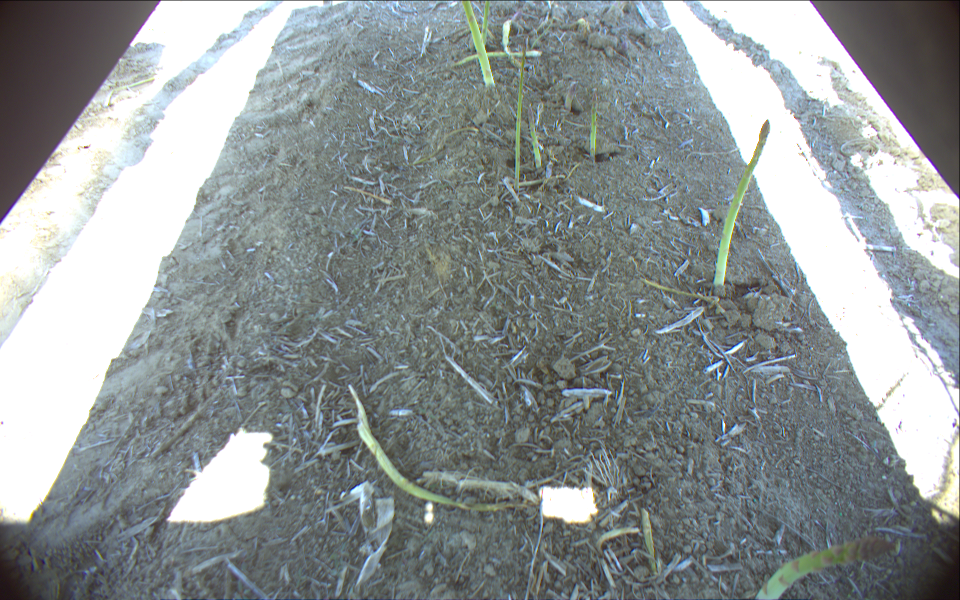aspa: (710, 115, 774, 289), (745, 531, 896, 600), (458, 1, 500, 87), (513, 42, 527, 196), (523, 99, 546, 169), (583, 92, 600, 165)
